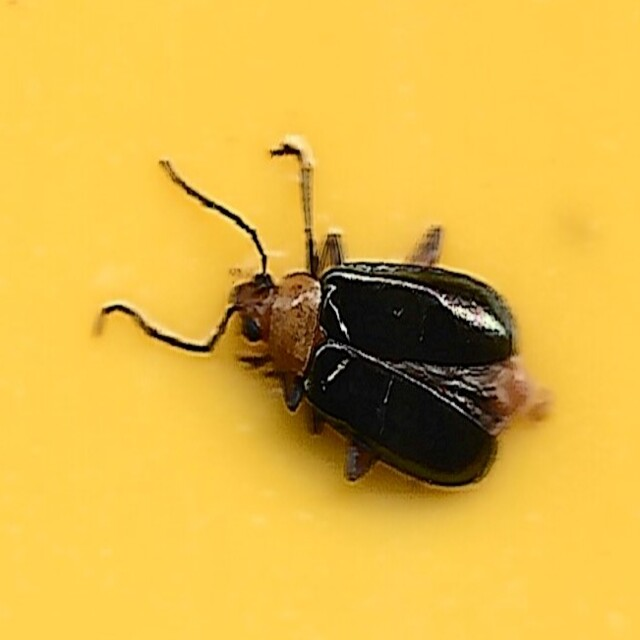Coleoptera: (98, 140, 542, 500)
